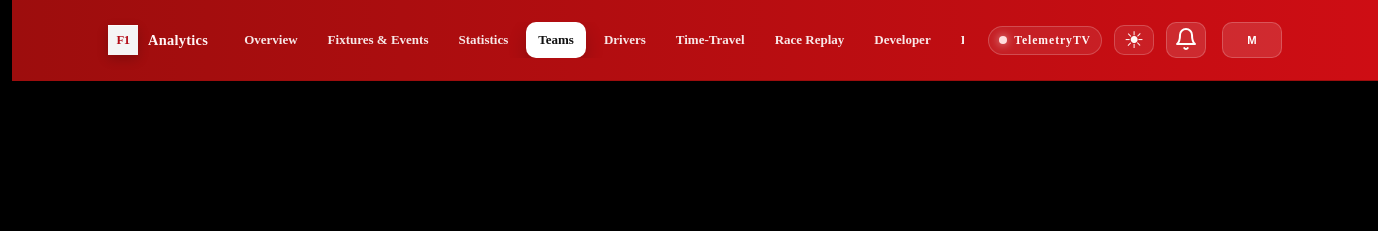
Scenario: TopNavigation › closes the account menu on Escape and on an outside click
This screenshot has width=1378, height=231.
Click the button "M" at (1252, 40), box [1222,22,1282,58]
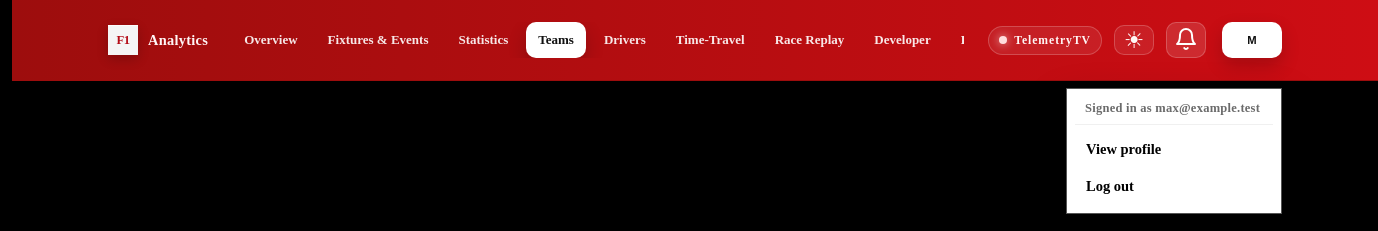
Press Escape
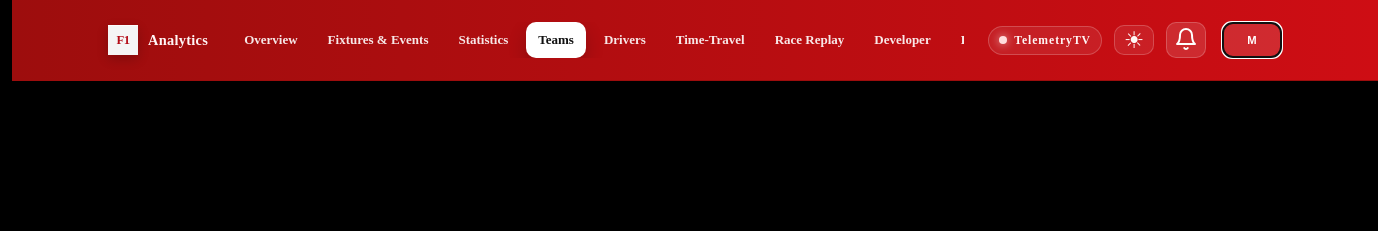
Expected: the button "Log out" is gone
Click the button "M" at (1252, 40), box [1222,22,1282,58]
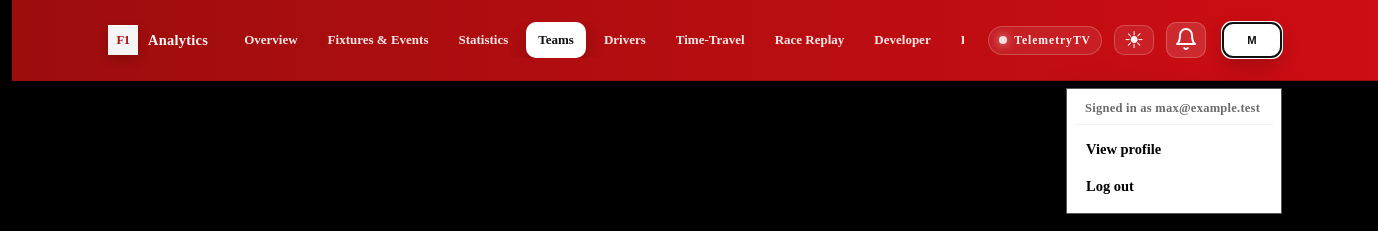
Press the mouse on the element that starts with "Analytics" at (695, 50), box [12,0,1377,99]
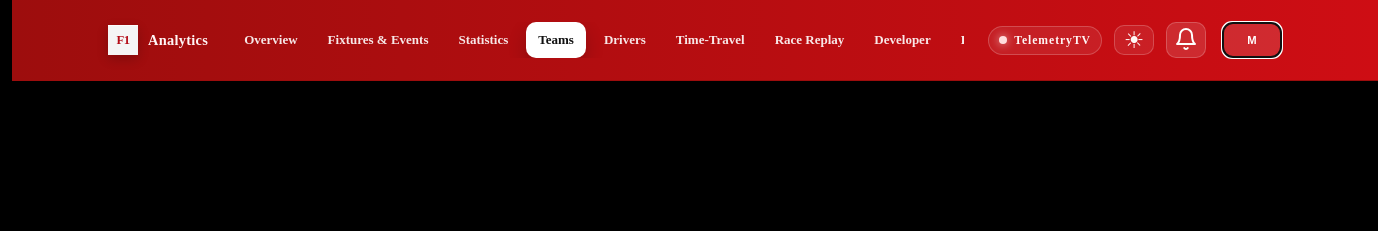
Expected: the button "Log out" is gone
